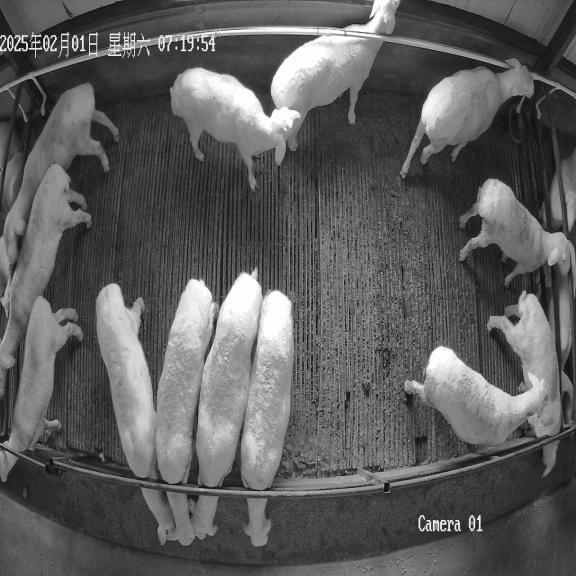eating: (96, 283, 175, 545), (191, 270, 263, 539), (156, 279, 218, 546), (488, 291, 562, 477), (241, 291, 293, 546)
stand: (0, 164, 91, 394), (0, 83, 119, 253), (400, 58, 534, 178), (271, 0, 400, 124), (170, 68, 300, 190), (0, 296, 82, 481), (405, 346, 547, 447), (459, 179, 574, 287)
